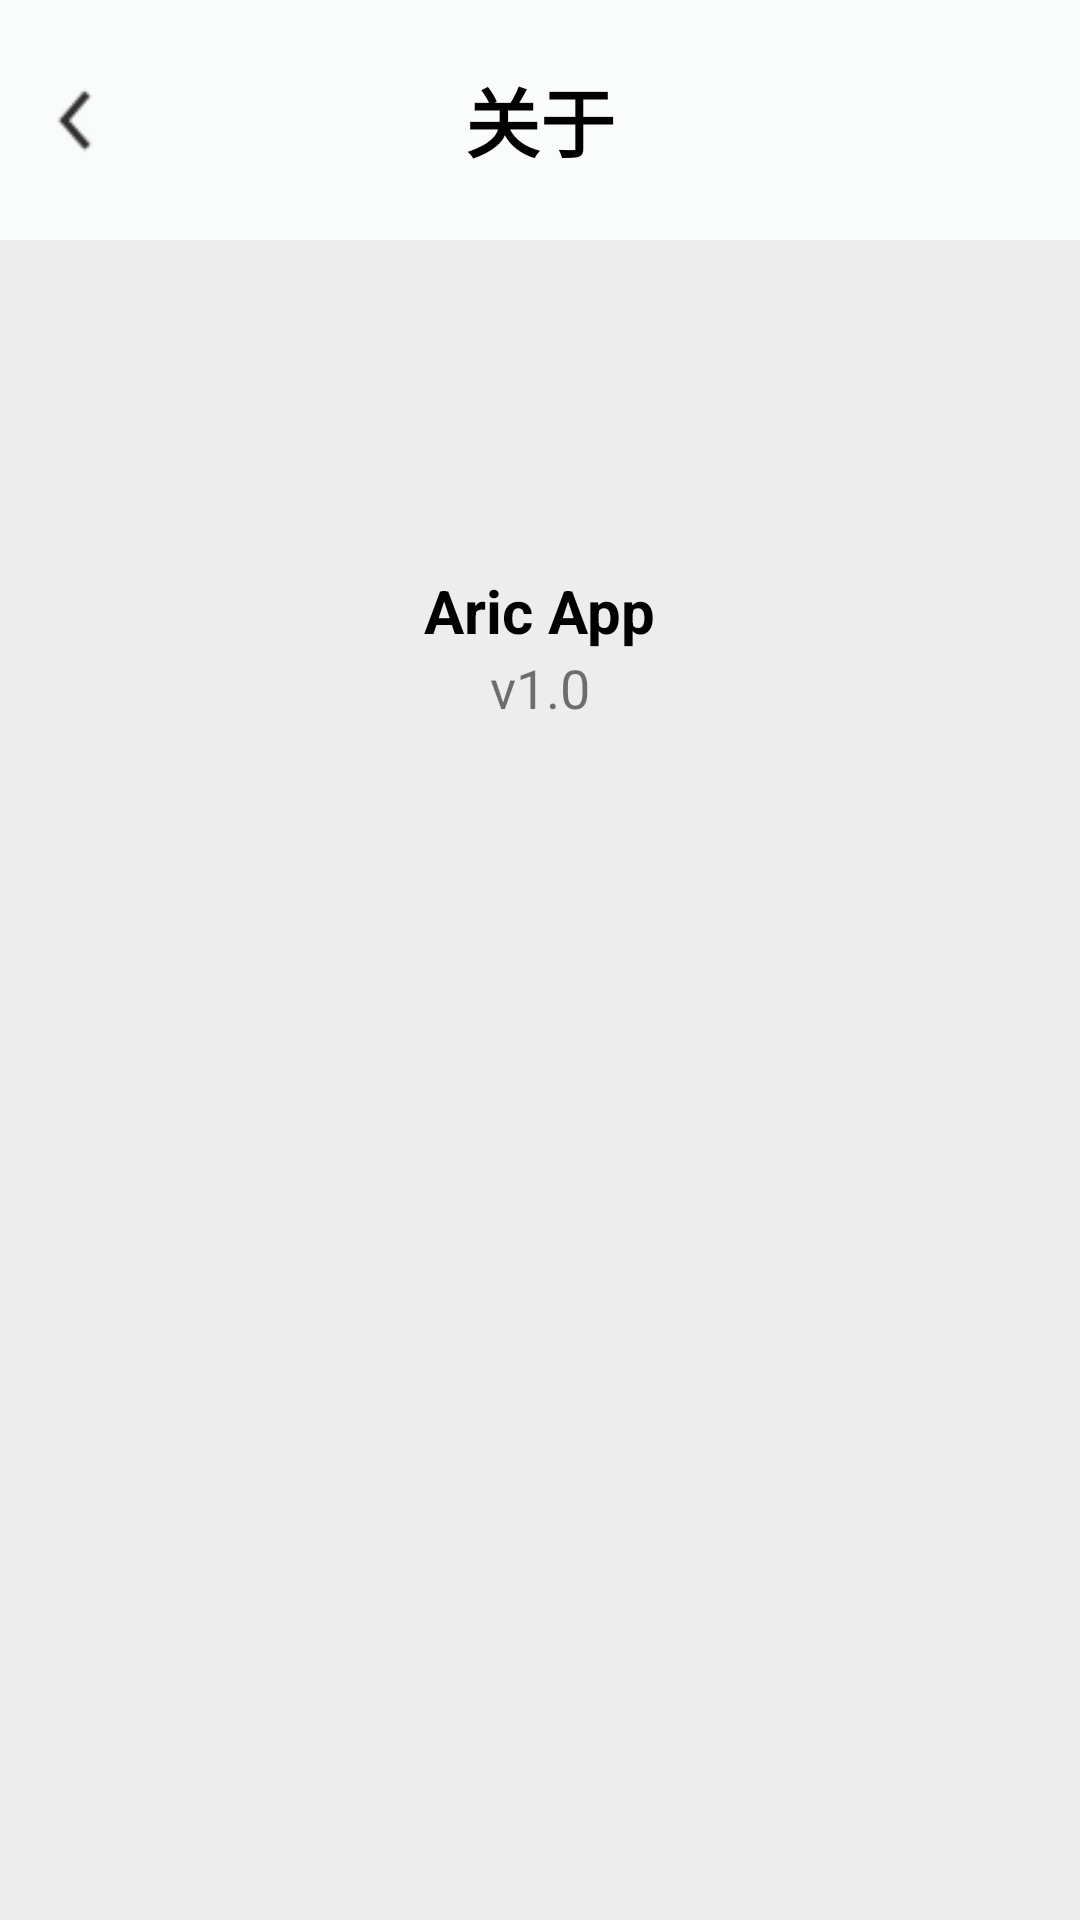

Point at icon controls on the screen. Image size 1080 × 1920, points as point (x, y).
back: point (74, 121)
